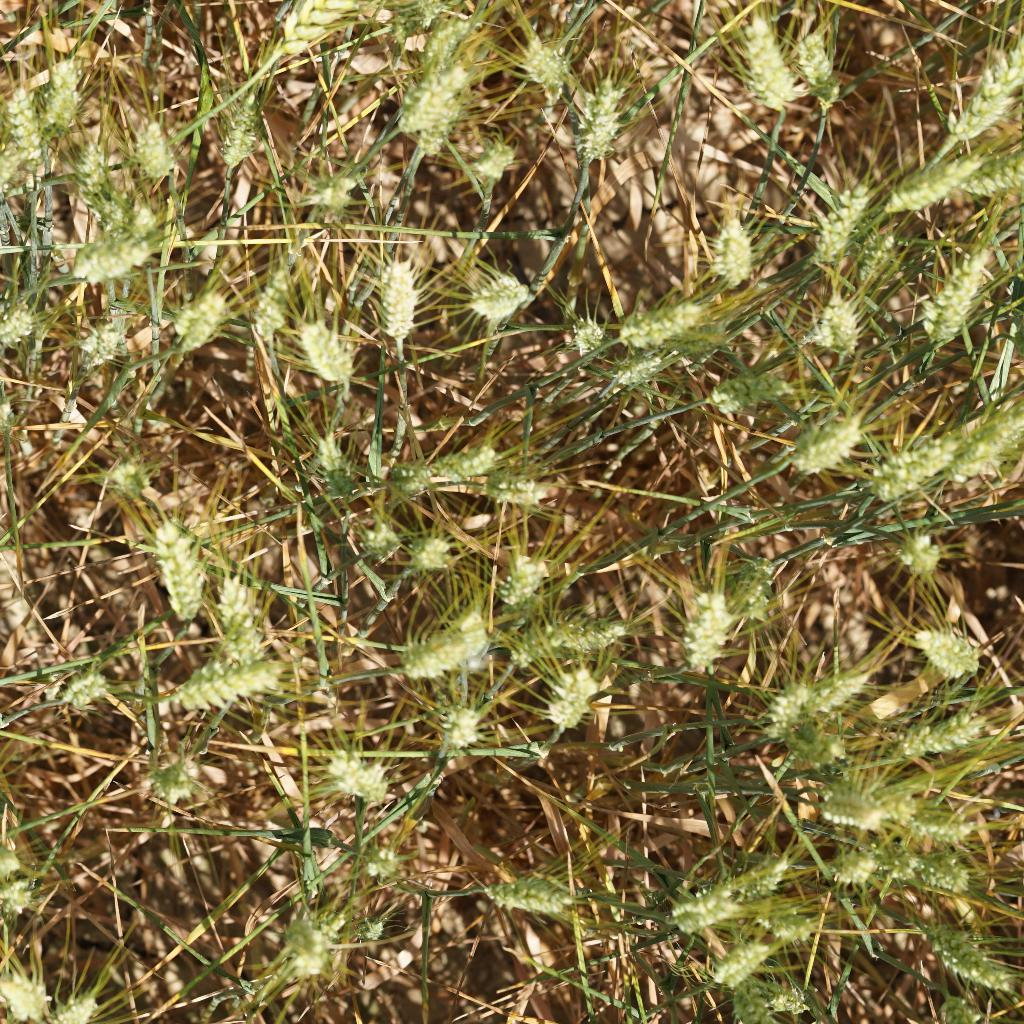0-0: (918, 224, 990, 357), (139, 500, 215, 619), (723, 0, 802, 114), (949, 25, 1024, 145), (388, 606, 499, 683), (137, 665, 287, 721), (886, 124, 972, 217), (929, 916, 1020, 997), (769, 411, 859, 492), (382, 438, 514, 493), (361, 246, 425, 358), (317, 740, 407, 817), (572, 71, 639, 174), (944, 410, 1020, 499), (859, 428, 949, 503), (252, 1, 356, 65), (701, 197, 768, 296), (453, 251, 535, 331), (788, 291, 875, 366), (709, 358, 811, 421), (394, 54, 473, 135), (789, 8, 853, 107), (744, 890, 841, 955), (206, 92, 279, 176), (479, 855, 575, 918), (204, 563, 266, 660), (64, 234, 163, 294), (964, 129, 1024, 228), (799, 171, 864, 262), (410, 19, 487, 95), (157, 280, 230, 359), (55, 124, 126, 205), (613, 292, 710, 351), (290, 318, 358, 397), (508, 32, 583, 103), (903, 706, 998, 762), (0, 73, 50, 178), (899, 616, 983, 677), (776, 717, 855, 781), (40, 62, 94, 153), (541, 665, 613, 731), (742, 669, 804, 742), (490, 535, 548, 612), (56, 656, 133, 714), (52, 322, 120, 387), (558, 605, 639, 659), (687, 575, 732, 671), (722, 553, 785, 620), (249, 255, 297, 342), (665, 881, 742, 935), (904, 847, 976, 904), (810, 649, 871, 716), (810, 783, 890, 834), (893, 519, 948, 593), (732, 848, 810, 900), (441, 698, 504, 762), (284, 908, 344, 975), (346, 499, 407, 564), (714, 933, 778, 994), (130, 107, 180, 185), (563, 311, 621, 378), (852, 224, 907, 294), (466, 126, 527, 189), (890, 792, 968, 841), (135, 754, 210, 804), (504, 616, 566, 676), (722, 974, 795, 1024), (303, 433, 357, 500), (347, 829, 411, 882), (416, 95, 462, 165), (406, 526, 460, 582), (826, 845, 889, 892), (299, 165, 357, 215), (350, 901, 403, 955), (599, 349, 674, 387), (0, 967, 49, 1024), (103, 449, 165, 493), (744, 981, 812, 1016), (494, 471, 553, 509), (0, 295, 36, 352), (0, 877, 44, 923), (52, 992, 108, 1023), (417, 1, 468, 33), (0, 0, 3, 6)
